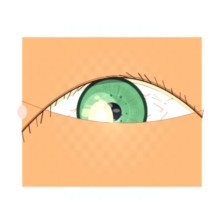corneal_ulcer: (74, 96, 127, 139)
